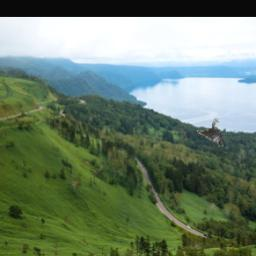Crow: (196, 119, 224, 147)
